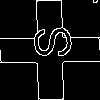S: (25, 25, 72, 59)
